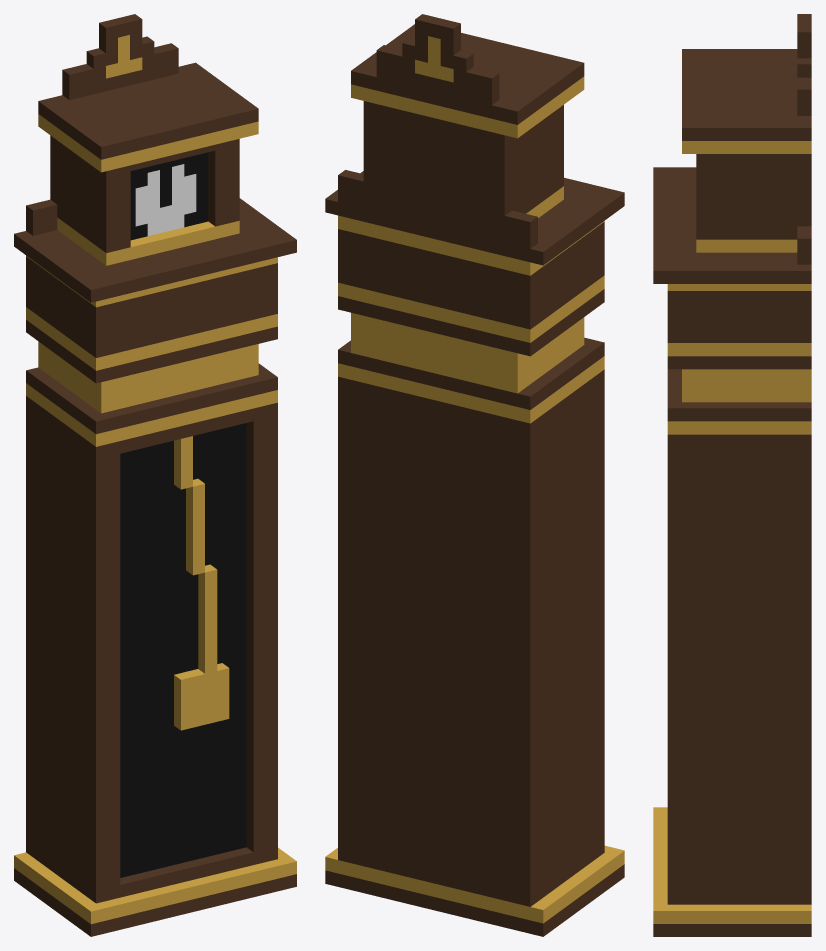
File: ggj clock.obj
The picture shows the model from 3 angles, left to right: view 1: azimuth 30°, elevation 25°; view 2: azimuth 150°, elevation 25°; view 3: azimuth 270°, elevation 25°; orthographic projection. The views are drawn at different scales.
Size of the model in its own units: 1.7 by 6.6 by 1.1.
Materials: 1 (1 with a texture image).
